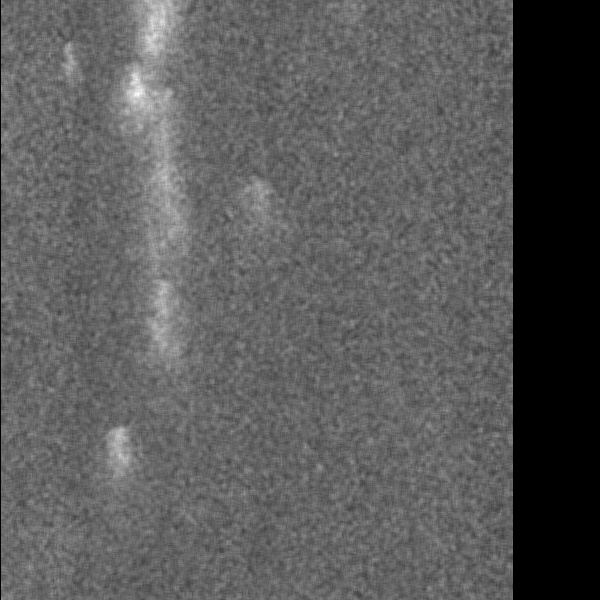spark: (113, 56, 167, 130), (99, 425, 135, 532), (232, 175, 267, 265), (134, 168, 183, 213), (56, 40, 82, 104)
